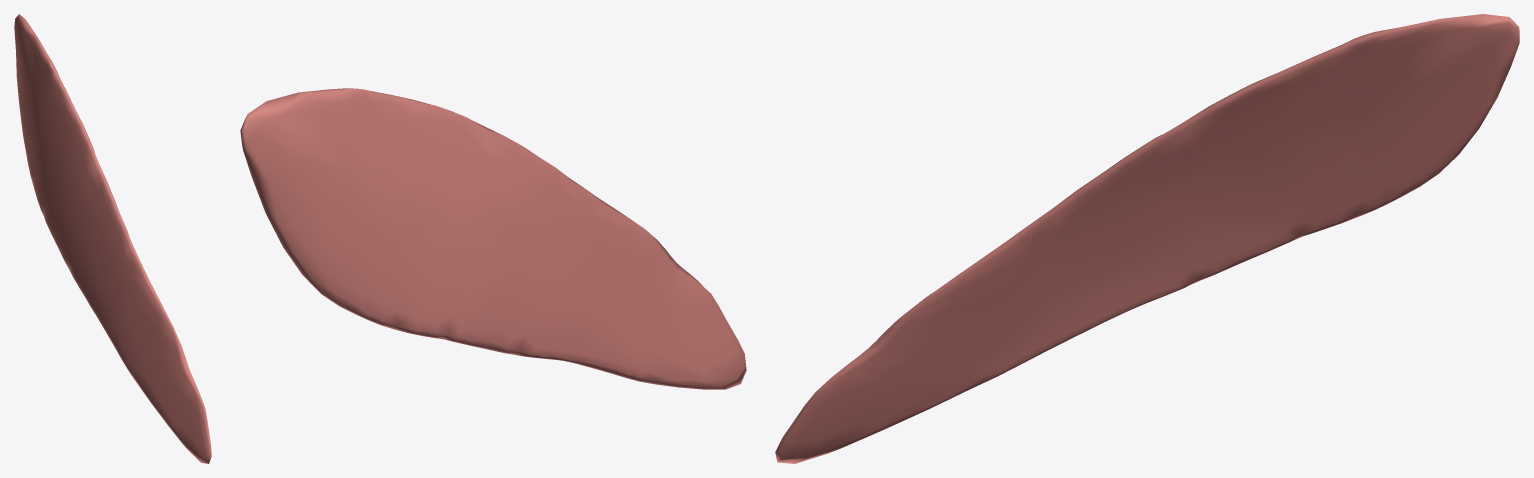
3 renders of one model, left to right at view 1: azimuth 30°, elevation 25°; view 2: azimuth 150°, elevation 25°; view 3: azimuth 270°, elevation 25°, orthographic. The views are drawn at different scales.
Parts seen in each view (by area): view 1: ZA_d6db42ccea7c42d5; view 2: ZA_d6db42ccea7c42d5; view 3: ZA_d6db42ccea7c42d5.
Part boxes in pixels (left/top/right/bottom): ZA_d6db42ccea7c42d5: left=14, top=14, right=211, bottom=463; ZA_d6db42ccea7c42d5: left=240, top=88, right=746, bottom=389; ZA_d6db42ccea7c42d5: left=775, top=14, right=1519, bottom=463.
Bounding box in the file's own units: 0.0048 × 0.0286 × 0.0406.
